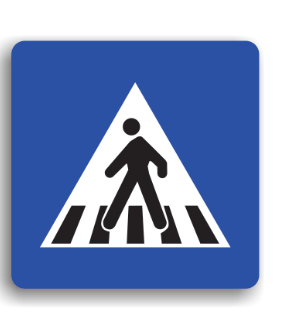trecere_pietoni: (6, 35, 263, 292)
